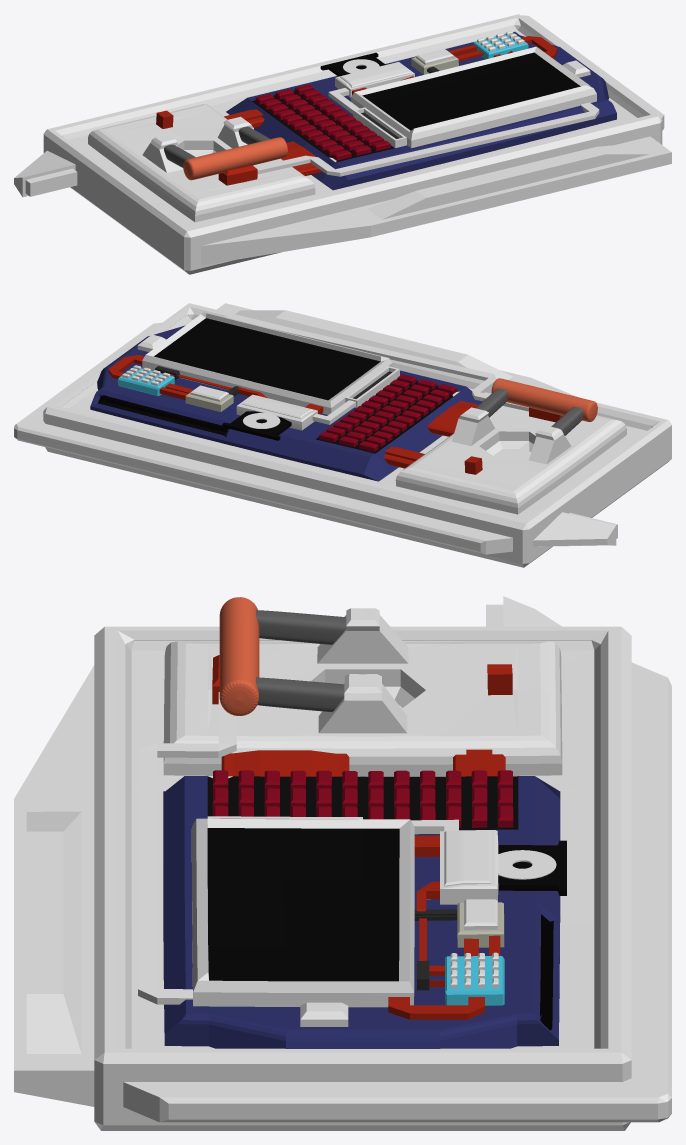
Rendered from reactorcontrol.fbx.
3 renders of one model, top to bottom at view 1: azimuth 30°, elevation 25°; view 2: azimuth 150°, elevation 25°; view 3: azimuth 270°, elevation 25°, orthographic. The views are drawn at different scales.
Parts seen in each view (by area): view 1: Cube, Cube.001; view 2: Cube, Cube.001; view 3: Cube, Cube.001.
Boxes of the visible parts, x1=… form: Cube: x1=14, y1=14, x2=671, y2=274; Cube.001: x1=164, y1=126, x2=287, y2=180; Cube: x1=14, y1=303, x2=671, y2=567; Cube.001: x1=476, y1=378, x2=597, y2=435; Cube: x1=14, y1=596, x2=671, y2=1130; Cube.001: x1=219, y1=597, x2=346, y2=715.
Size of the model in its own units: 459 by 80.82 by 257.
